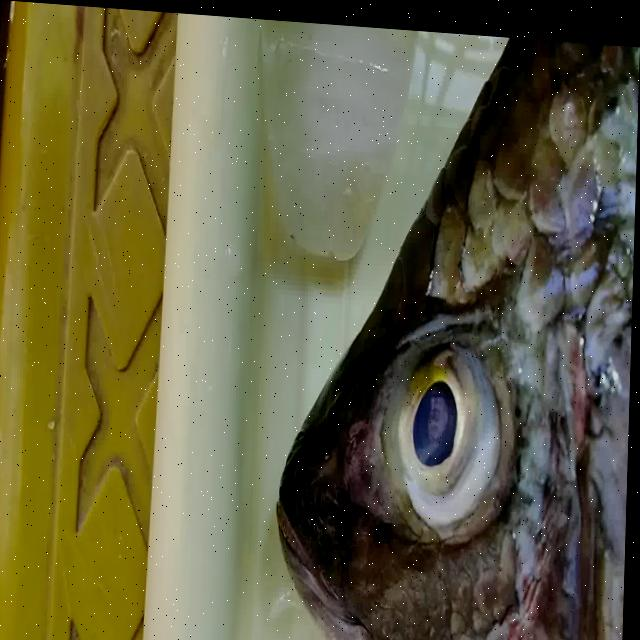Fresh: (385, 300, 523, 557)
